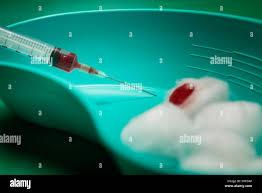Syringe: (0, 26, 155, 95), (0, 27, 106, 76)
cotton: (121, 77, 261, 173), (181, 101, 261, 172), (121, 103, 191, 156), (180, 130, 256, 172), (194, 101, 261, 140), (168, 77, 228, 115)
